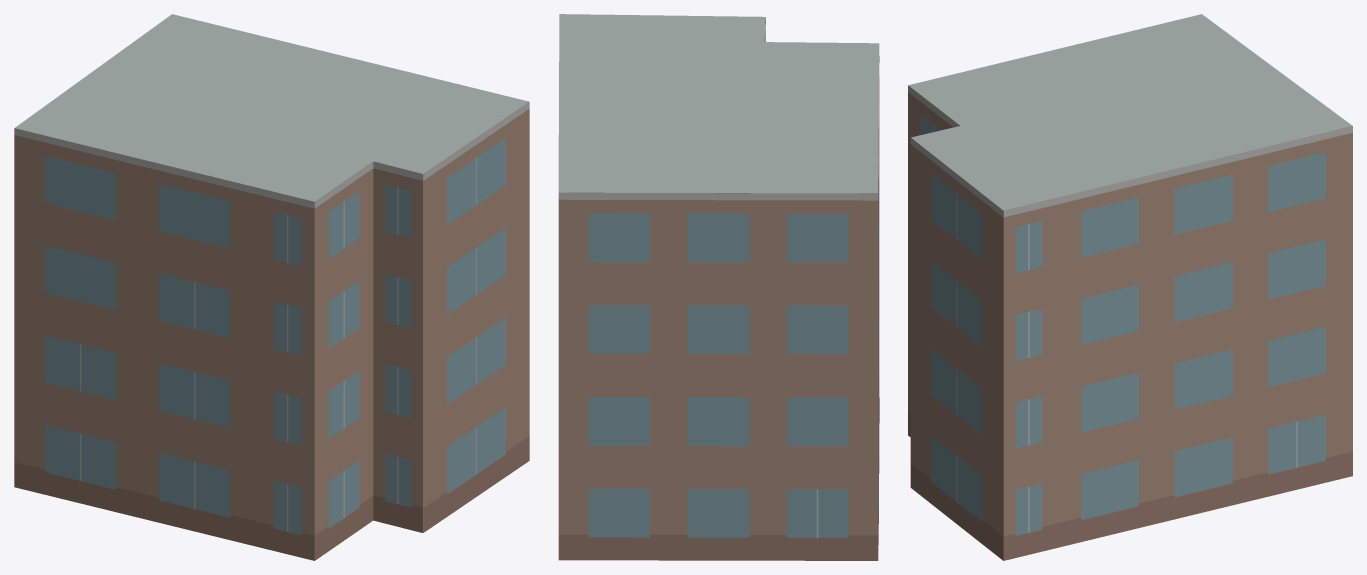
Rendered from survey-upis-32822735.glb.
The picture shows the model from 3 angles, left to right: view 1: azimuth 30°, elevation 25°; view 2: azimuth 150°, elevation 25°; view 3: azimuth 270°, elevation 25°; orthographic projection. The views are drawn at different scales.
Parts seen in each view (by area): view 1: survey-upis-32822735.tmp; view 2: survey-upis-32822735.tmp; view 3: survey-upis-32822735.tmp.
Boxes of the visible parts, x1,y1,x2,y2 form: survey-upis-32822735.tmp: [14, 14, 529, 560]; survey-upis-32822735.tmp: [558, 14, 879, 560]; survey-upis-32822735.tmp: [908, 14, 1352, 560].
Bounding box in the file's own units: 15.19 × 12.6 × 14.51.
